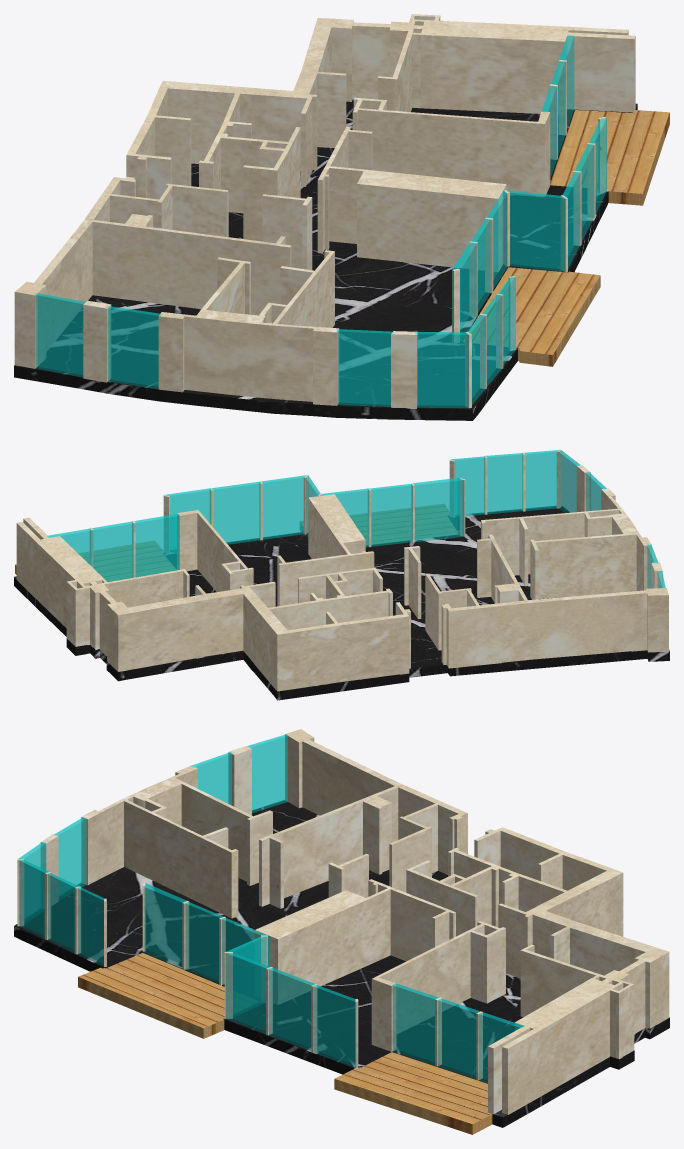
The model's file is unit4.fbx.
3 views of the same model, one above another, from view 1: azimuth 30°, elevation 25°; view 2: azimuth 150°, elevation 25°; view 3: azimuth 270°, elevation 25° (orthographic). The views are drawn at different scales.
Visible parts, largest first — view 1: polySurface25, pCube1, polySurface28, pCube22, pCube23; view 2: polySurface25, polySurface28, pCube1, pCube22, pCube23; view 3: polySurface25, polySurface28, pCube1, pCube23, pCube22.
Part boxes in pixels (bbox=[...]): polySurface25: bbox=[14, 14, 635, 408]; pCube1: bbox=[14, 99, 637, 420]; polySurface28: bbox=[35, 35, 606, 408]; pCube22: bbox=[463, 267, 600, 366]; pCube23: bbox=[550, 110, 669, 205]; polySurface25: bbox=[16, 449, 668, 691]; polySurface28: bbox=[47, 450, 665, 588]; pCube1: bbox=[14, 506, 669, 700]; pCube22: bbox=[300, 504, 457, 544]; pCube23: bbox=[15, 541, 176, 581]; polySurface25: bbox=[17, 729, 669, 1114]; polySurface28: bbox=[18, 734, 524, 1082]; pCube1: bbox=[14, 800, 669, 1127]; pCube23: bbox=[334, 1052, 492, 1134]; pCube22: bbox=[78, 953, 224, 1038].
Size of the model in its own units: 18.43 by 2 by 15.5.
Materials: 4 (3 with a texture image).
